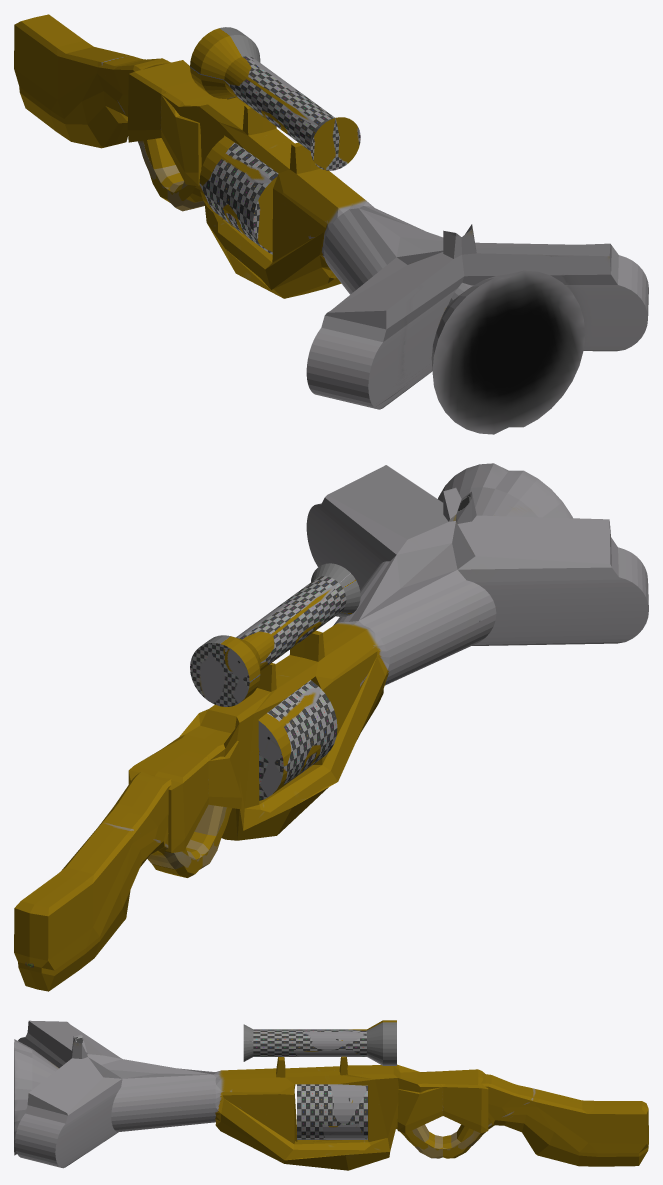
Rendered from Blunderbuss.fbx.
3 renders of one model, top to bottom at view 1: azimuth 30°, elevation 25°; view 2: azimuth 150°, elevation 25°; view 3: azimuth 270°, elevation 25°, orthographic. The views are drawn at different scales.
Parts seen in each view (by area): view 1: Cube, Cylinder.001, Cylinder; view 2: Cube, Cylinder.001, Cylinder; view 3: Cube, Cylinder.001, Cylinder.
Part boxes in pixels (x1,y1,x2,y2): Cube: (14, 14, 648, 434); Cylinder.001: (190, 27, 360, 170); Cylinder: (199, 136, 278, 254); Cube: (14, 463, 648, 991); Cylinder.001: (190, 563, 360, 706); Cylinder: (258, 680, 337, 800); Cube: (14, 1020, 648, 1170); Cylinder.001: (243, 1020, 396, 1065); Cylinder: (297, 1084, 367, 1139).
Bounding box in the file's own units: 575 × 345 × 1394.
Materials: 3 (3 with a texture image).
